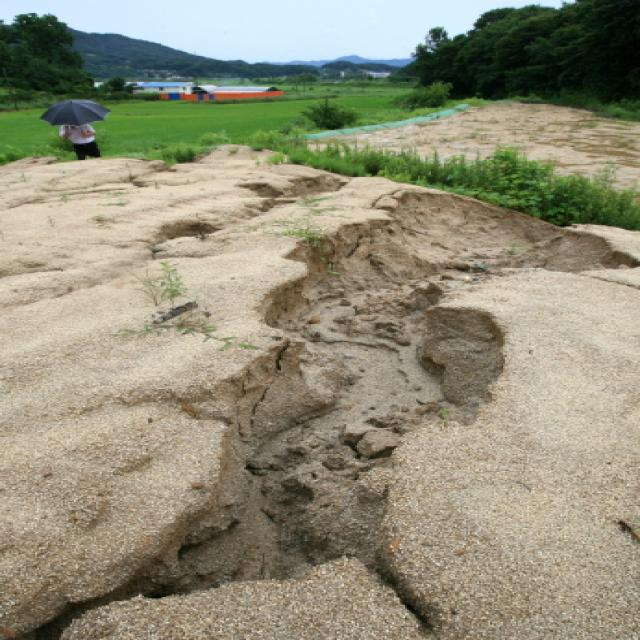grass: (94, 85, 640, 228), (0, 109, 76, 163)
red-sand: (0, 146, 640, 640), (355, 101, 640, 192)
